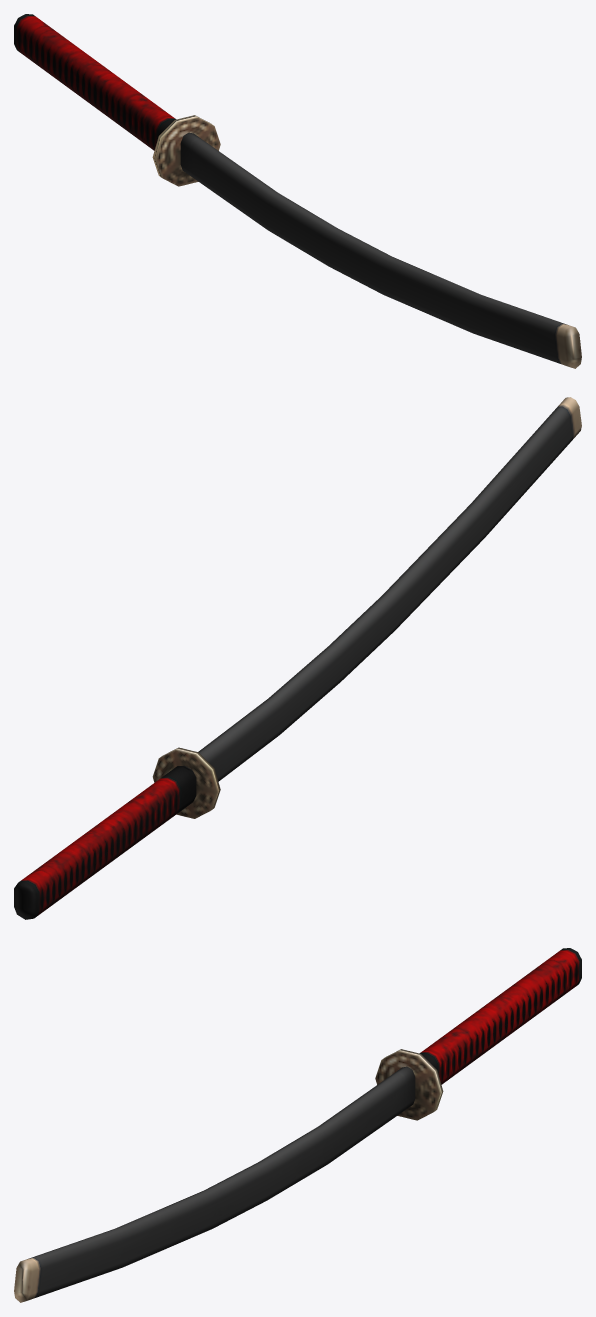
The model's file is SM_Katana_2.fbx.
3 renders of one model, top to bottom at view 1: azimuth 30°, elevation 25°; view 2: azimuth 150°, elevation 25°; view 3: azimuth 330°, elevation 25°, orthographic.
Parts seen in each view (by area): view 1: L_Katana_01; view 2: L_Katana_01; view 3: L_Katana_01.
Boxes of the visible parts, x1,y1,x2,y2 form: L_Katana_01: (14,14,581,368); L_Katana_01: (14,397,581,919); L_Katana_01: (14,948,581,1302).
Size of the model in its own units: 7.35 by 14.97 by 109.
